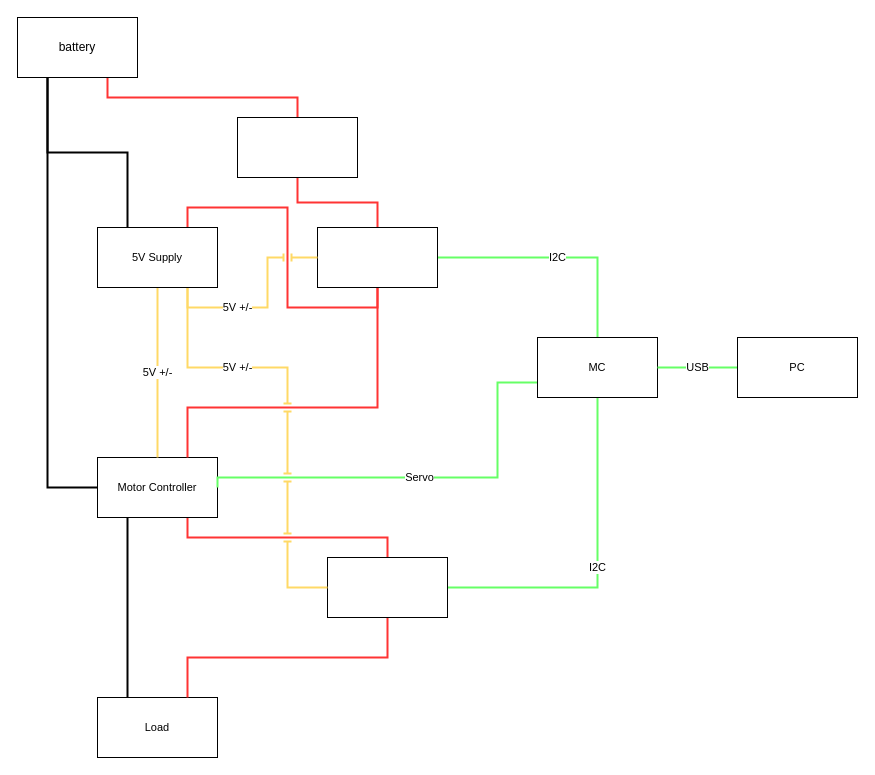
The diagram is 875 pixels wide and 775 high, and some of its shapes have lost their labels. The shapes that lost their labels are listed below. From the top down, each one's box as (x1, y1, x2, y2) in pixels, then its label:
(236, 116, 358, 178): Main Breaker
(316, 226, 438, 288): Current Shunt M
(326, 556, 448, 618): Current Shunt L
